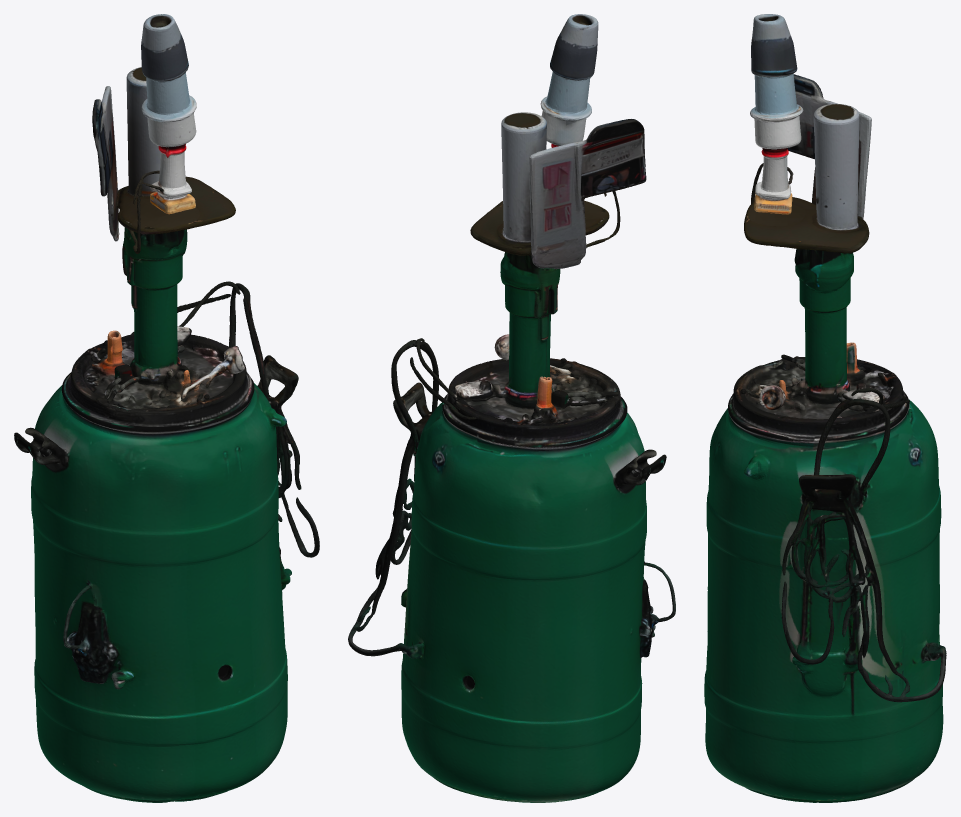
The model's file is tripo_convert_c4c9bc6b-e3ef-4e73-bb15-18b1c844c584.obj.
The picture shows the model from 3 angles, left to right: view 1: azimuth 30°, elevation 25°; view 2: azimuth 150°, elevation 25°; view 3: azimuth 270°, elevation 25°; orthographic projection. The views are drawn at different scales.
Visible parts, largest first — view 1: tripo_node_c4c9bc6b-e3ef-4e73-bb15-18b1c844c584; view 2: tripo_node_c4c9bc6b-e3ef-4e73-bb15-18b1c844c584; view 3: tripo_node_c4c9bc6b-e3ef-4e73-bb15-18b1c844c584.
Part boxes in pixels (x1,y1,x2,y2): tripo_node_c4c9bc6b-e3ef-4e73-bb15-18b1c844c584: [14, 14, 319, 802]; tripo_node_c4c9bc6b-e3ef-4e73-bb15-18b1c844c584: [348, 14, 675, 802]; tripo_node_c4c9bc6b-e3ef-4e73-bb15-18b1c844c584: [704, 14, 946, 802].
Bounding box in the file's own units: 0.3835 × 1 × 0.2973.
Materials: 1 (1 with a texture image).
